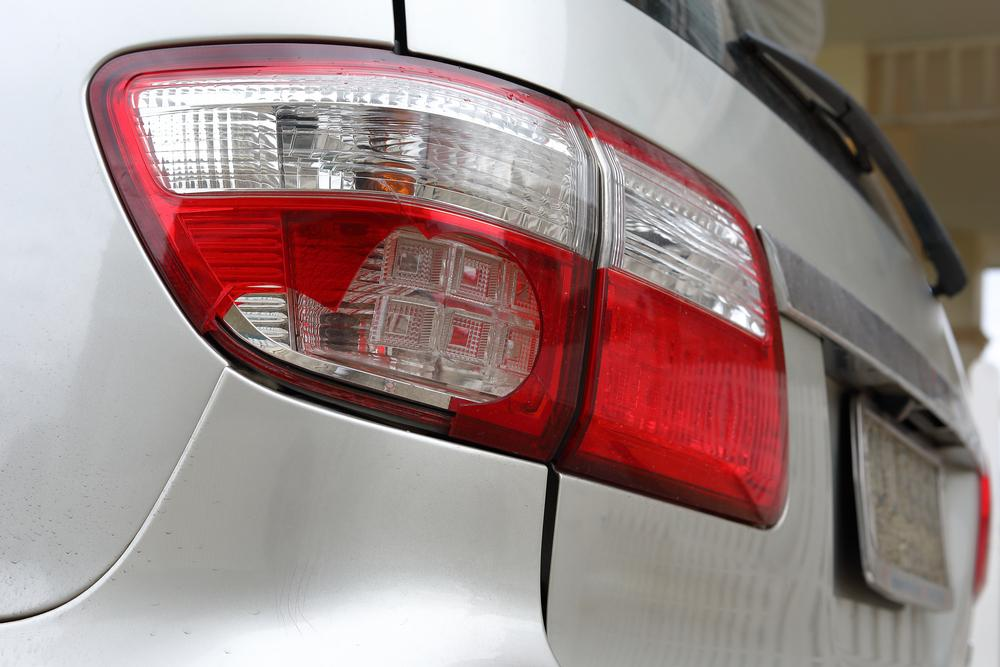lamp broken: (89, 40, 601, 466)
